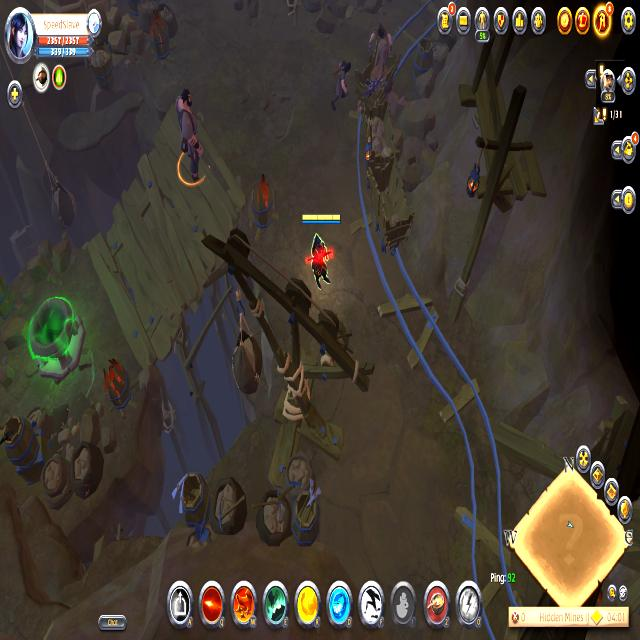ore: (170, 86, 213, 188), (327, 60, 350, 115), (368, 16, 395, 55)
red: (296, 209, 345, 301)
